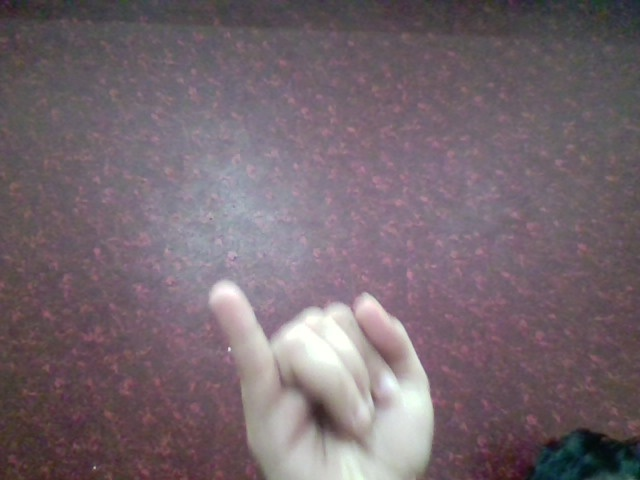j: (198, 265, 462, 480)
